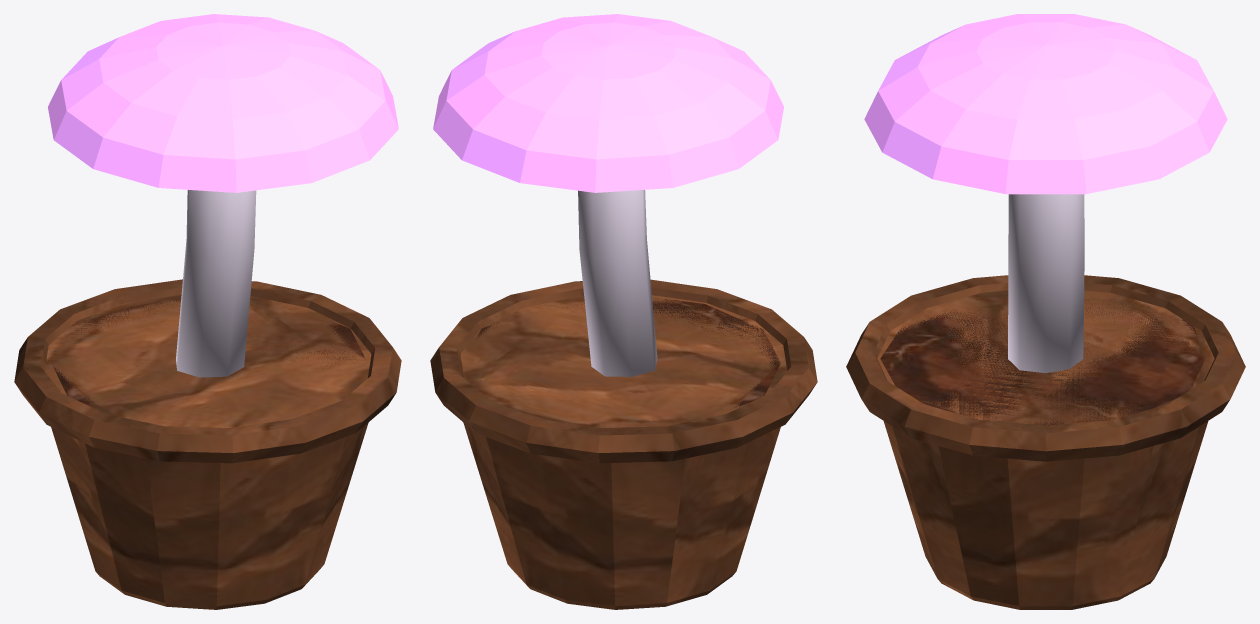
Rendered from potted_fungus.glb.
3 views of the same model, side by side, from view 1: azimuth 30°, elevation 25°; view 2: azimuth 150°, elevation 25°; view 3: azimuth 270°, elevation 25° (orthographic). The views are drawn at different scales.
Visible parts, largest first — view 1: model; view 2: model; view 3: model.
Part boxes in pixels (x1=…): model: x1=14, y1=14, x2=401, y2=609; model: x1=430, y1=14, x2=817, y2=609; model: x1=846, y1=14, x2=1245, y2=609.
Bounding box in the file's own units: 0.44 × 0.64 × 0.44.
6 materials, 4 textured.
